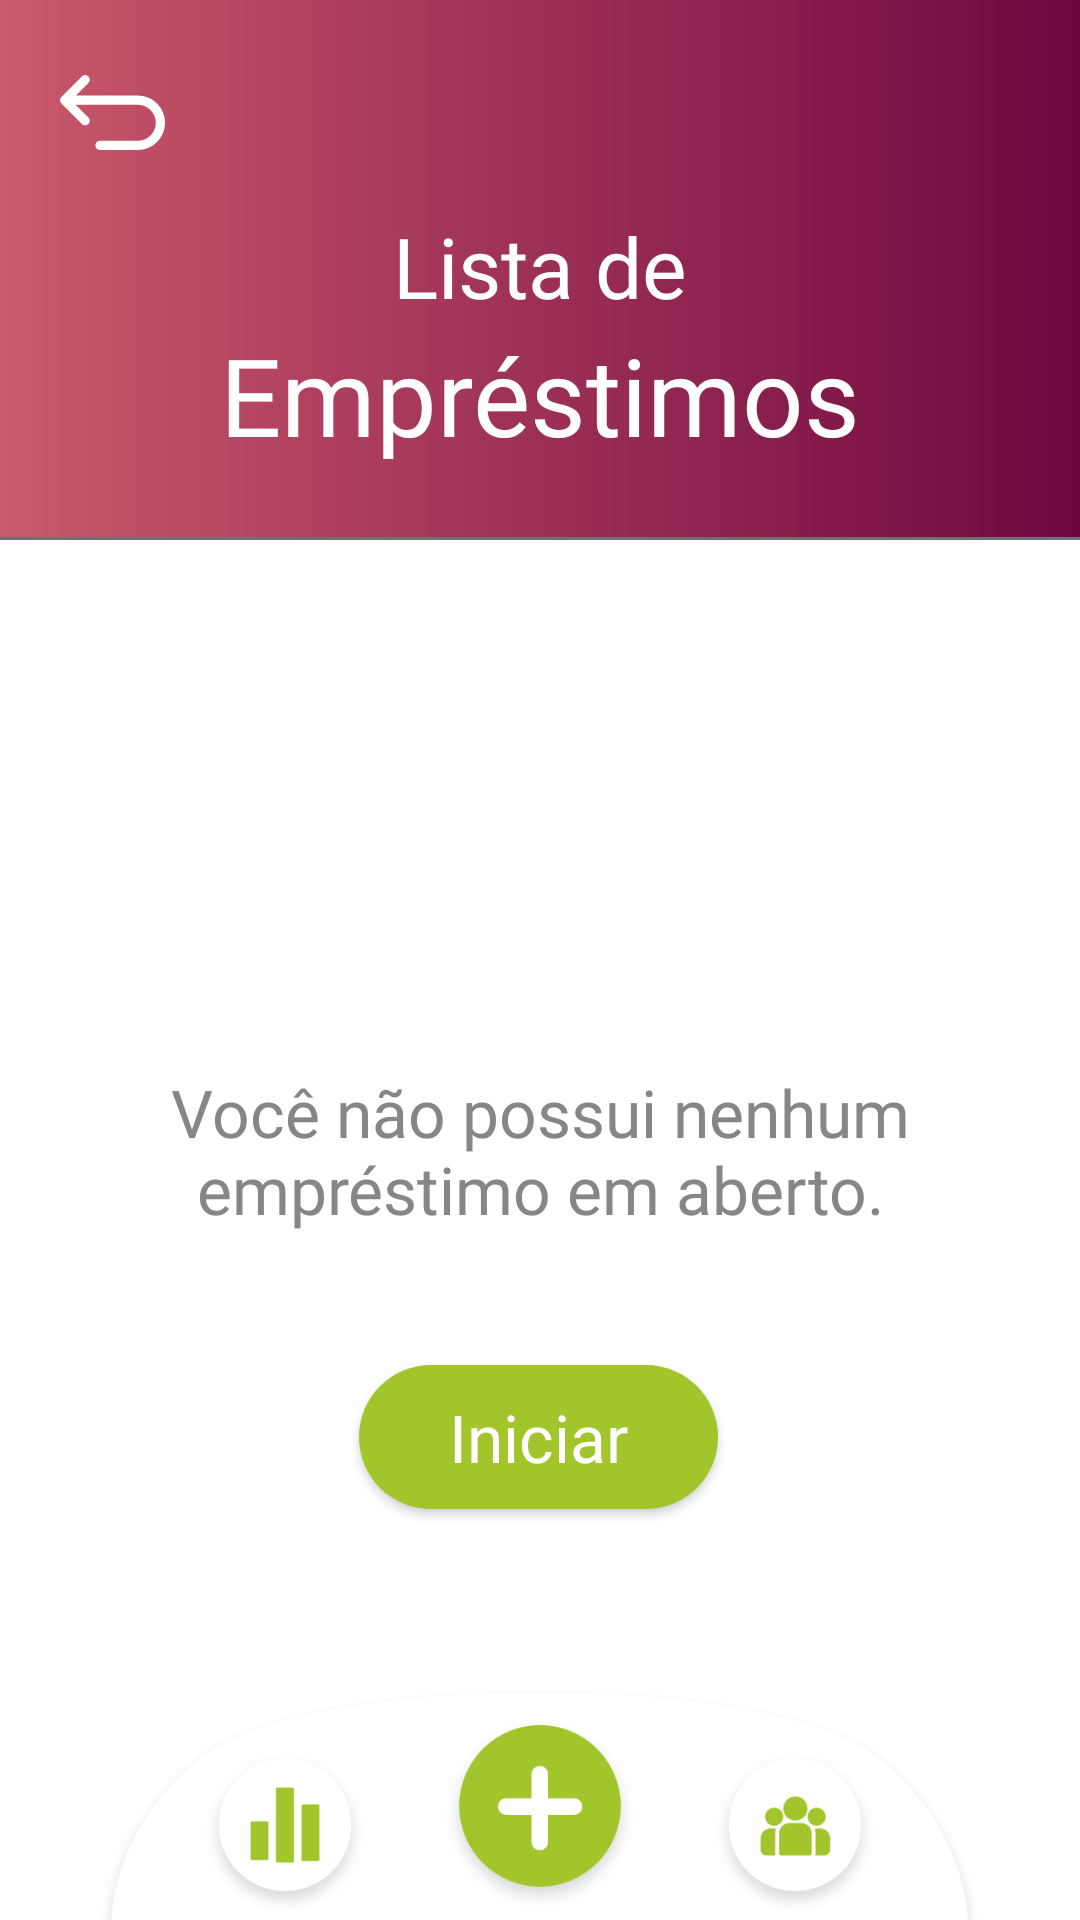

Locate icon controls on the screen. Image size 1080 x 1920, boxes as rect(x1, y1, x2, y2).
resource return: rect(60, 75, 165, 150)
